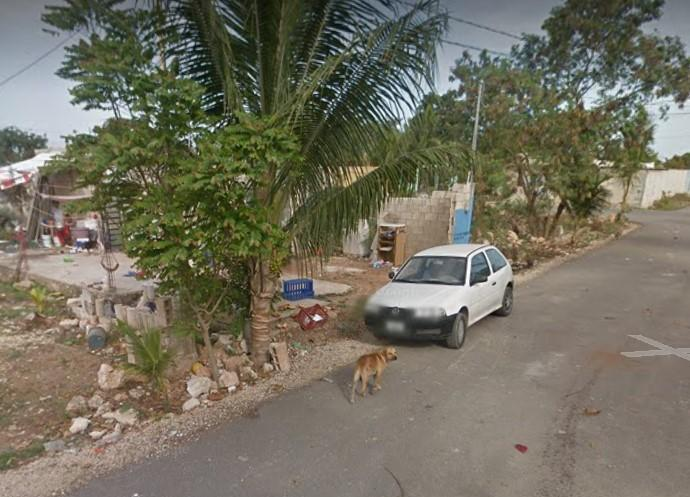normal_dogs: (344, 338, 405, 406)
